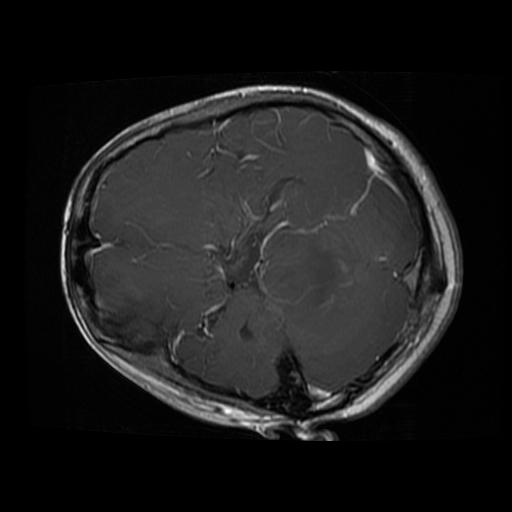glioma: (97, 293, 176, 358)
